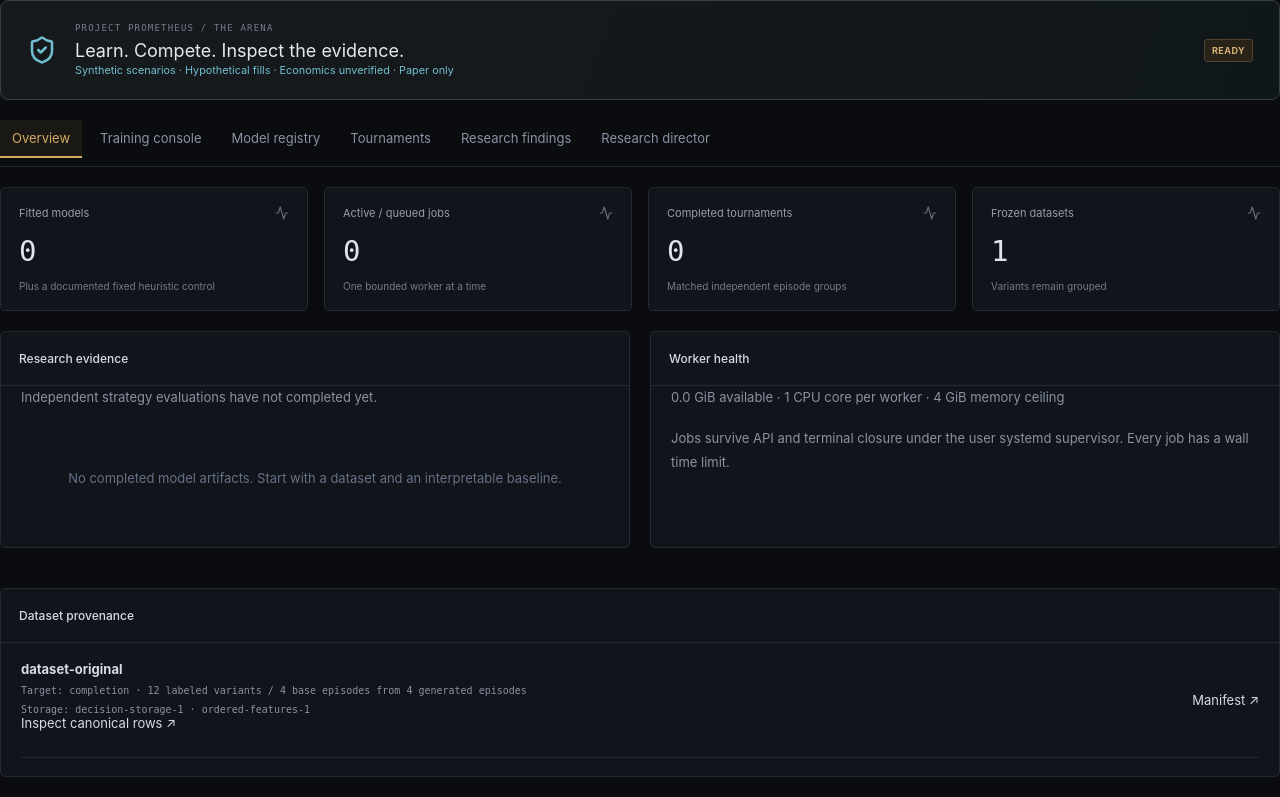
Test case: requests a storage migration and labels reused observations
Click the tab "Training console". click: click(151, 139)
box: [88,120,214,158]
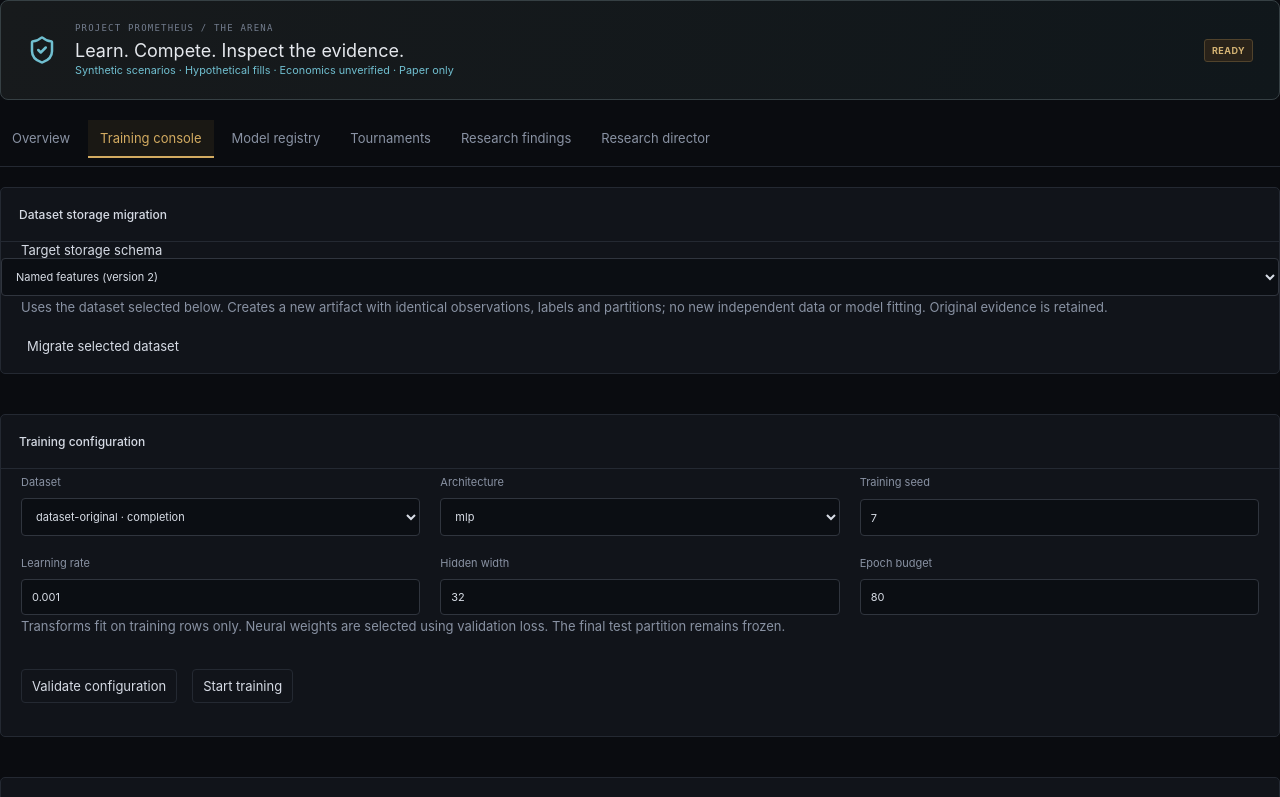
Expected: the text "no new independent data or model fitting" is shown, [21,299,1108,315]
Click the button "Migrate selected dataset". click: click(103, 346)
box: [21,337,185,355]
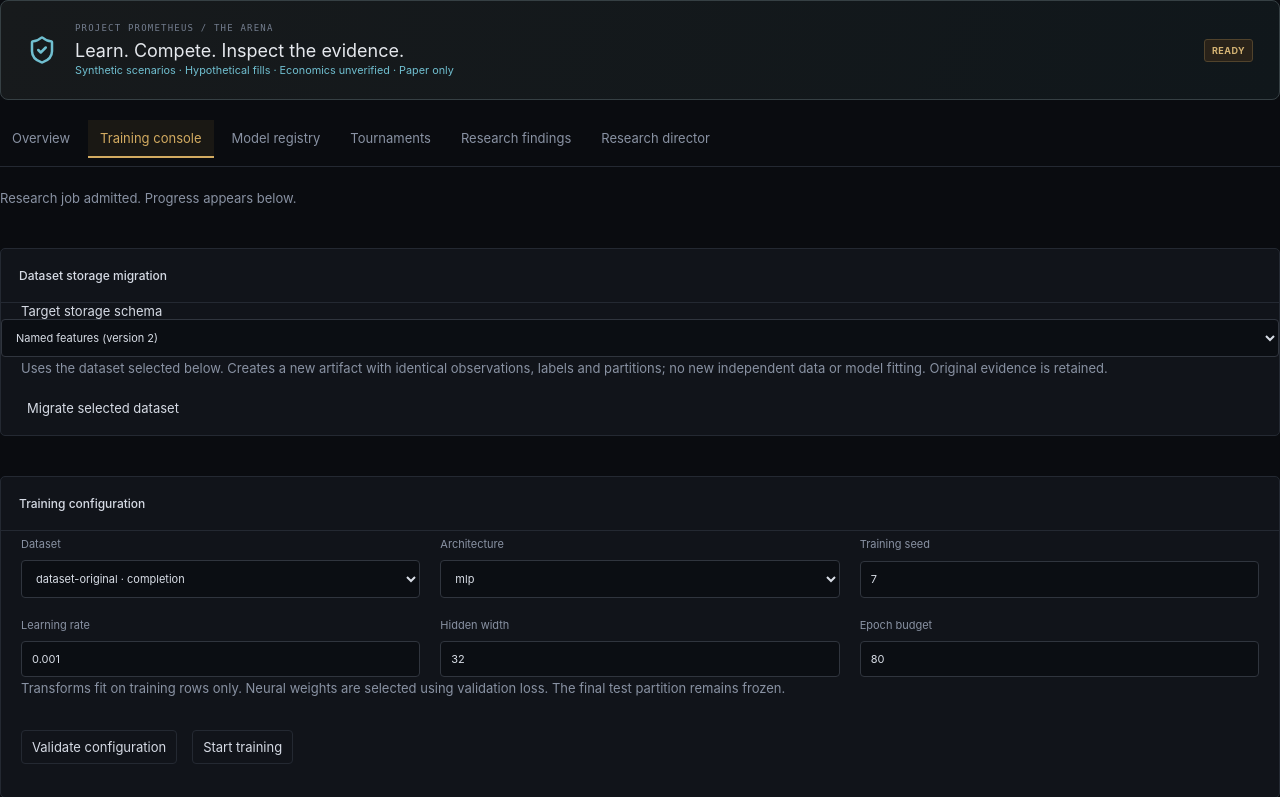
Expected: the text "Research job admitted. Progress appears below." is shown, [0,190,296,206]
